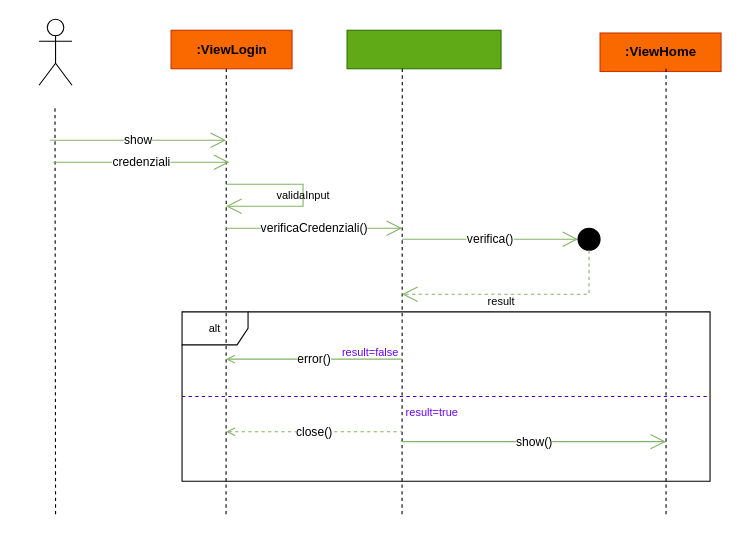
The diagram is 740 pixels wide and 535 high, and some of its shapes have lost their labels. The shapes that lost their labels are listed below. From the top down, each one's centre as x and y in pixels, then its label:
At point 55,51: "Nutrizionista".
At point 423,49: ":LoginController".
